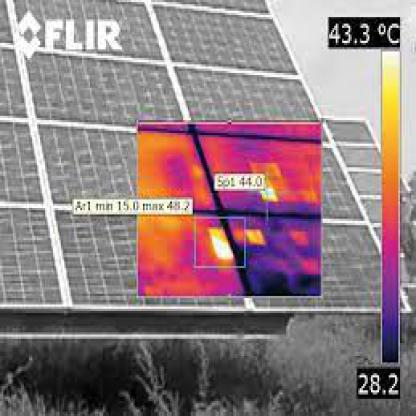Defects: (212, 225, 231, 266), (242, 225, 262, 247), (262, 186, 281, 202)
